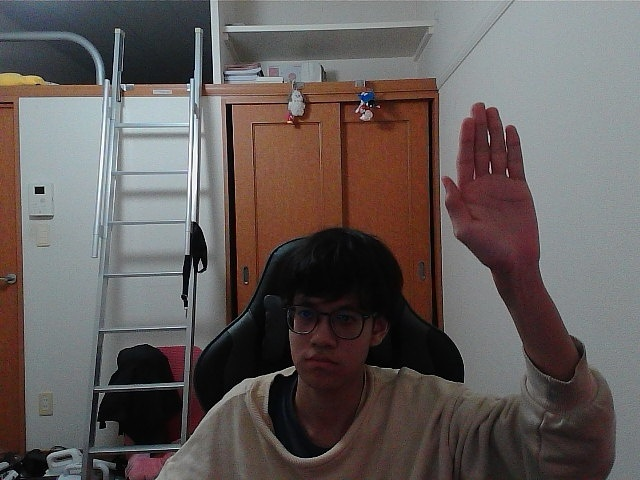open_palm: (449, 110, 520, 259)
